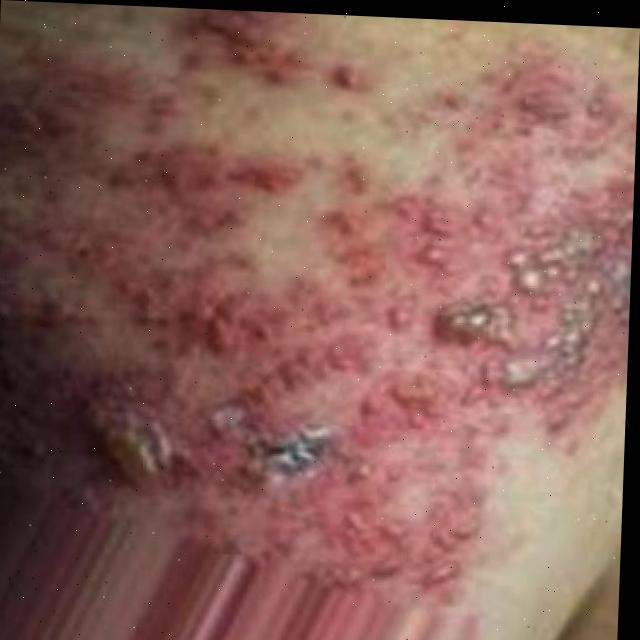Shingles: (63, 6, 640, 556)
